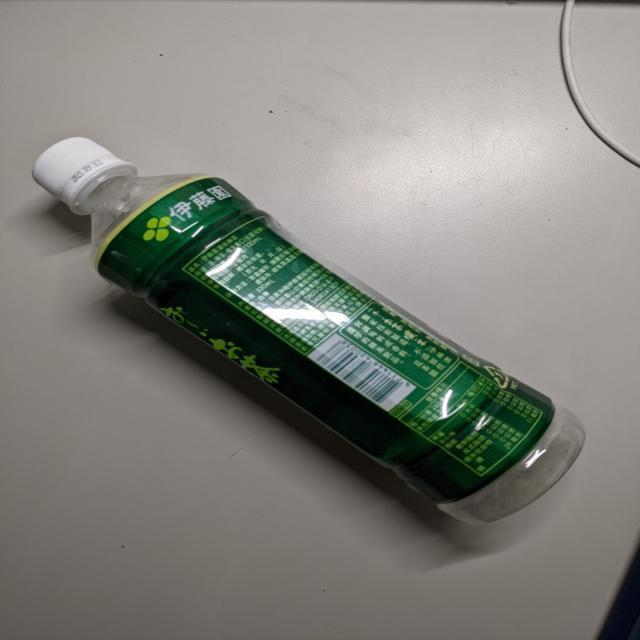Plastic: (29, 135, 594, 529)
